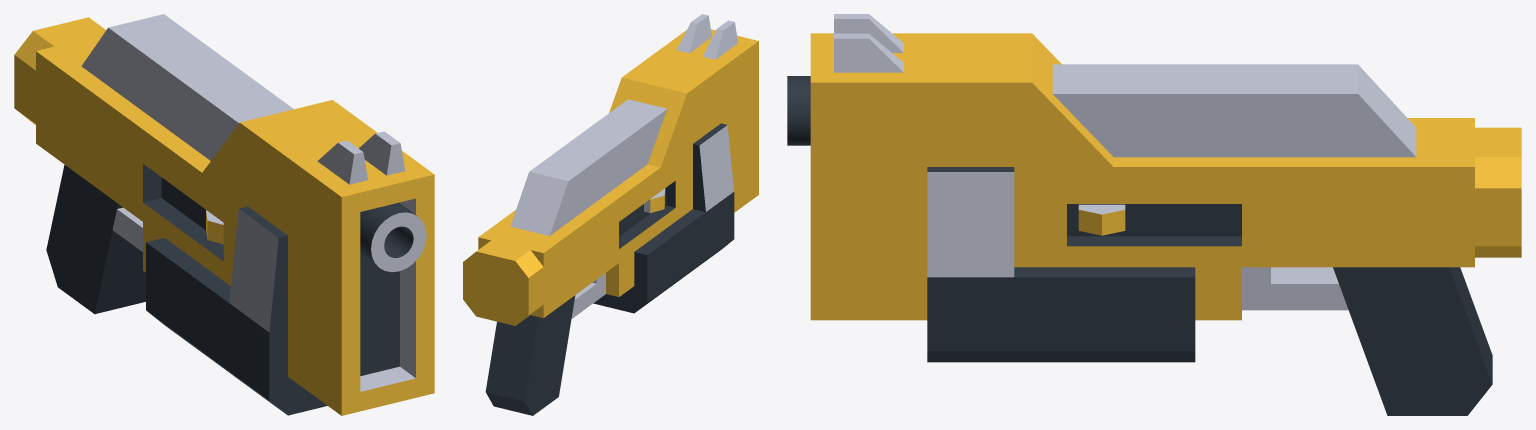
Rendered from blasterM.glb.
3 views of the same model, side by side, from view 1: azimuth 30°, elevation 25°; view 2: azimuth 150°, elevation 25°; view 3: azimuth 270°, elevation 25° (orthographic). The views are drawn at different scales.
Parts seen in each view (by area): view 1: blasterM; view 2: blasterM; view 3: blasterM.
Boxes of the visible parts, bbox=[...] form: blasterM: bbox=[14, 14, 434, 415]; blasterM: bbox=[463, 14, 758, 415]; blasterM: bbox=[787, 14, 1521, 415].
Bounding box in the file's own units: 0.14 × 0.355 × 0.63.
